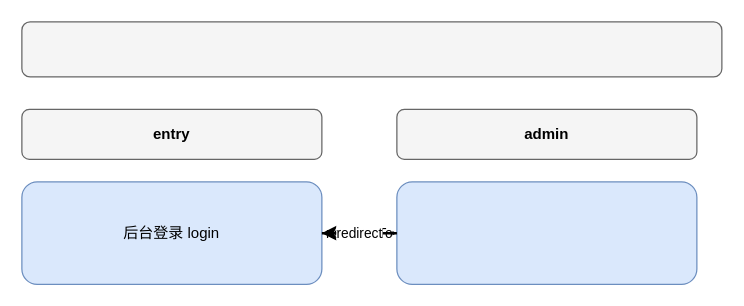
The diagram is 744 pixels wide and 306 high, and some of its shapes have lost their labels. Each missing label, with the centre of its shape:
"Eggturtle 生产后台画布" belongs at point (371, 49).
"平台概况 dashboard" belongs at point (546, 232).
